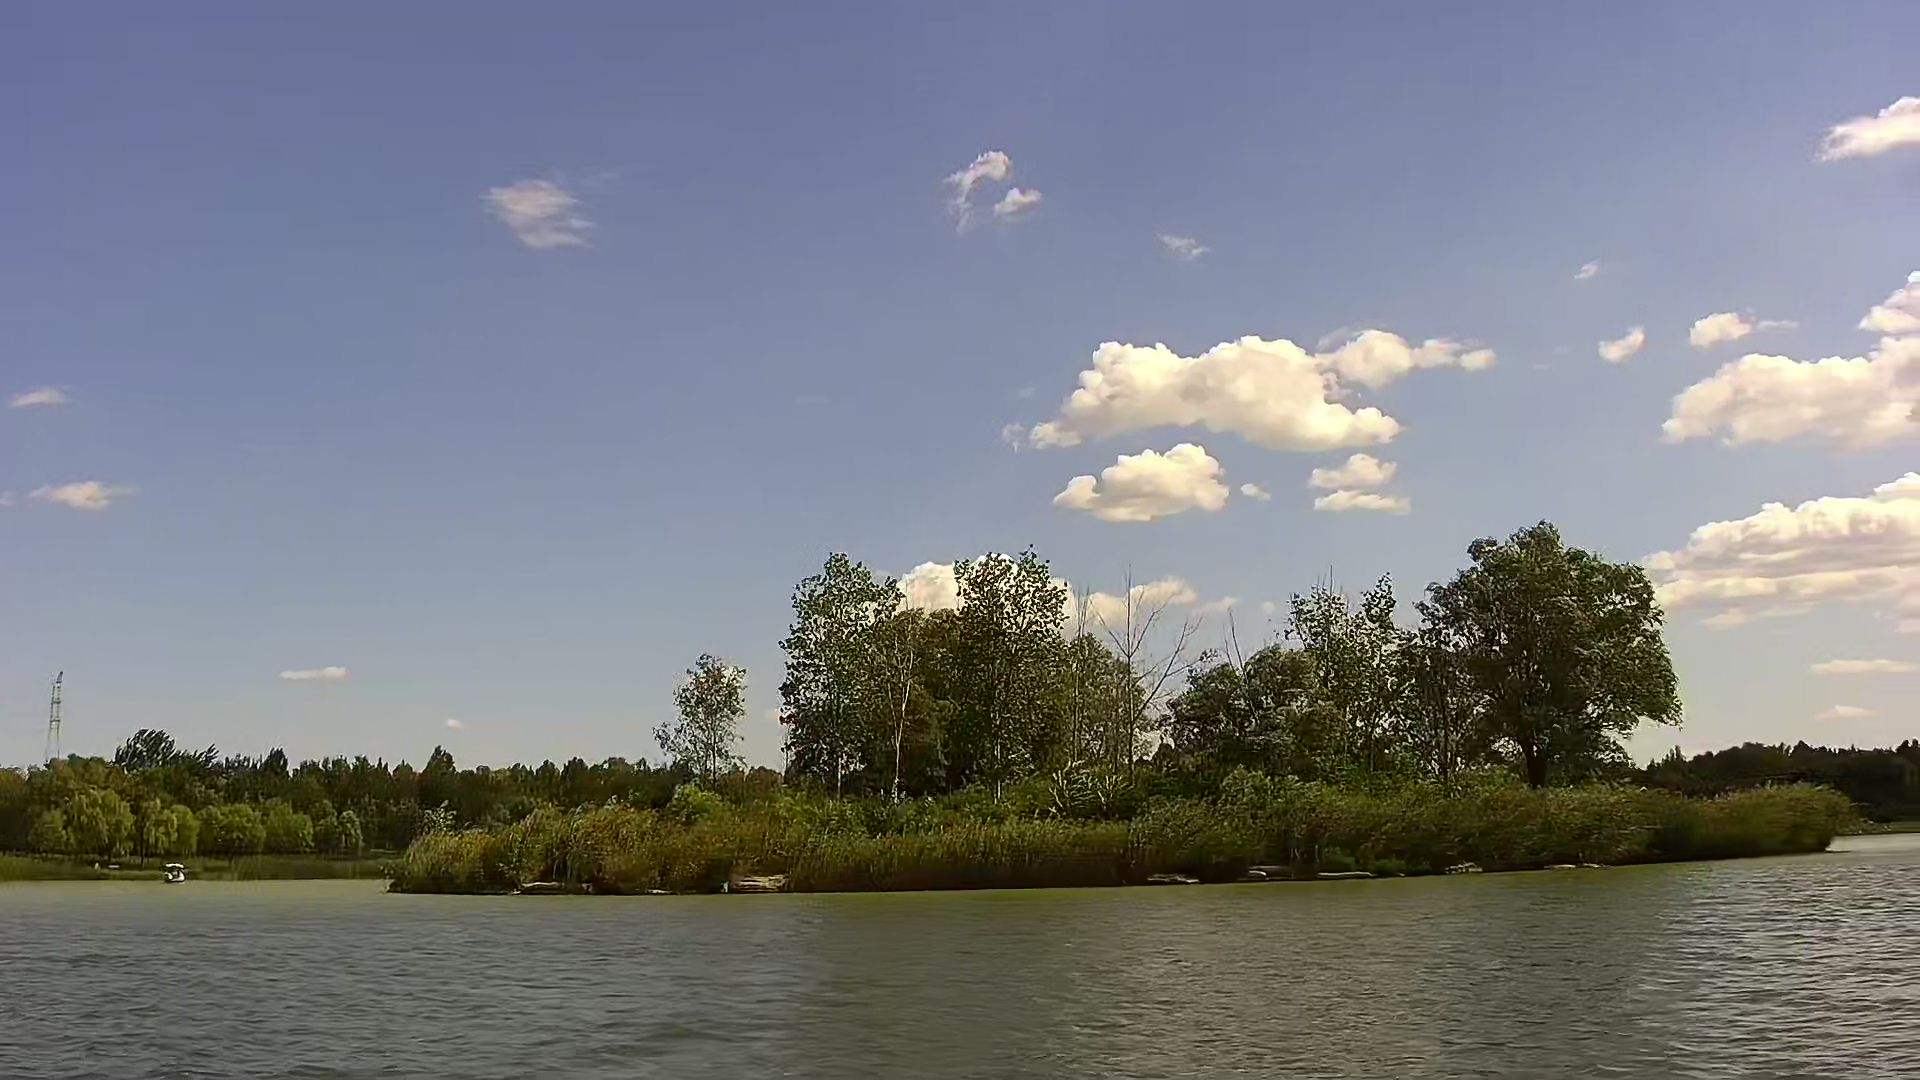rock: (719, 868, 786, 887)
